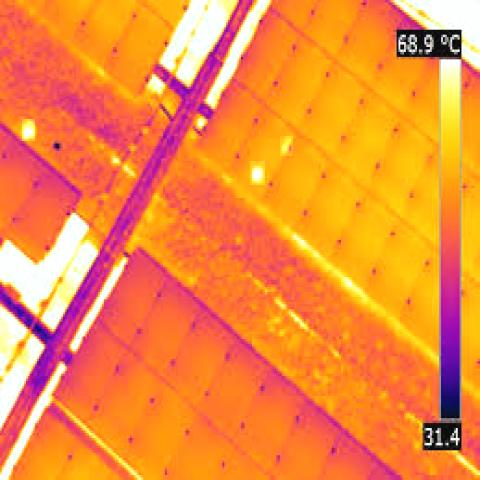fault: (250, 161, 265, 185), (22, 119, 35, 141), (280, 136, 293, 156)
